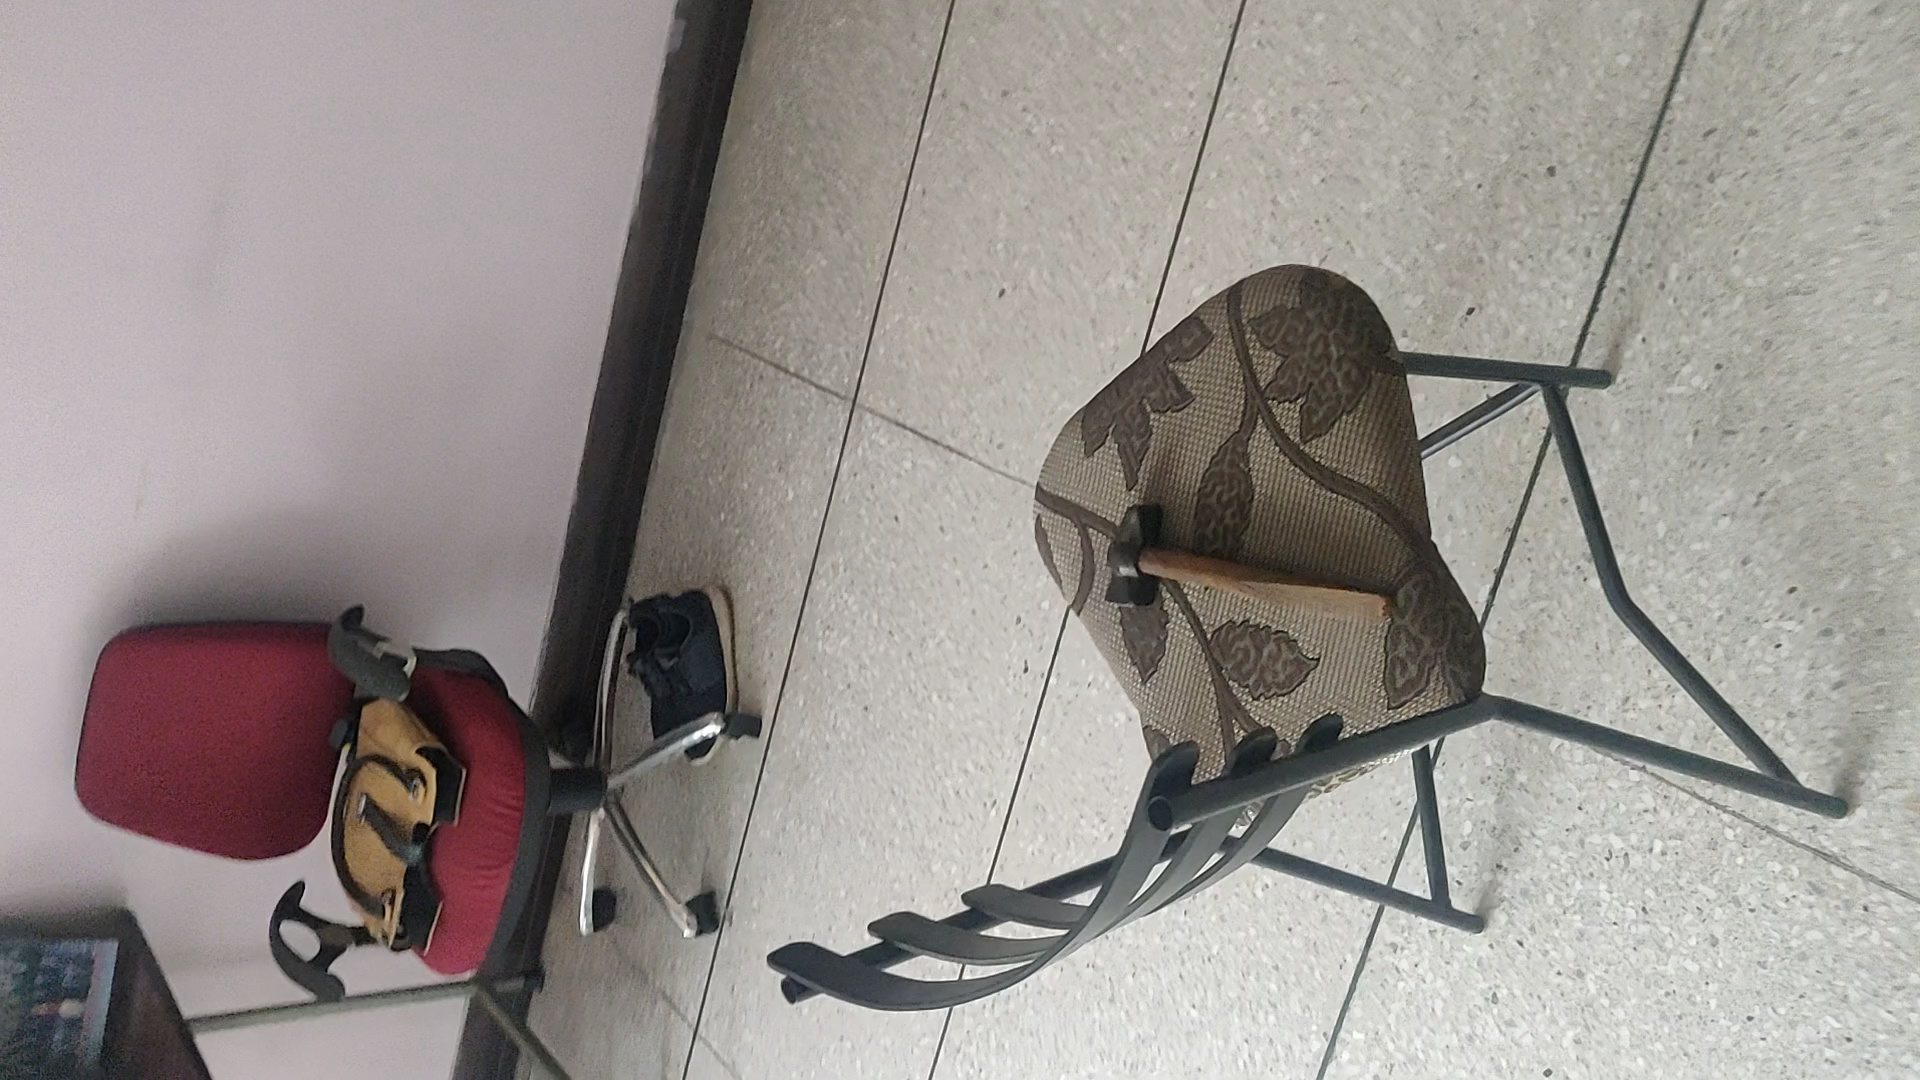hammer: (1101, 502, 1396, 632)
